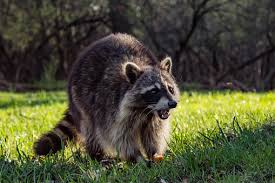raccoon: (66, 36, 179, 158)
